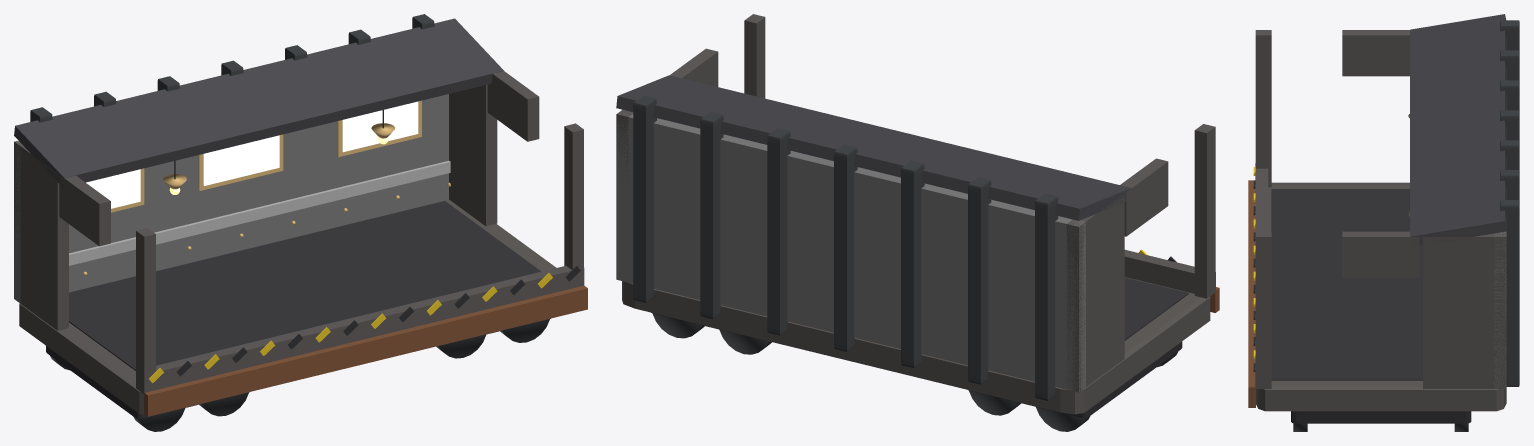
The model's file is car.glb.
The picture shows the model from 3 angles, left to right: view 1: azimuth 30°, elevation 25°; view 2: azimuth 150°, elevation 25°; view 3: azimuth 270°, elevation 25°; orthographic projection. The views are drawn at different scales.
Visible parts, largest first — view 1: car; view 2: car; view 3: car.
Boxes of the visible parts, x1,y1,x2,y2 form: car: (14,14,587,431); car: (616,14,1219,431); car: (1248,14,1519,431).
Bounding box in the file's own units: 7.6 × 3.95 × 4.21.
